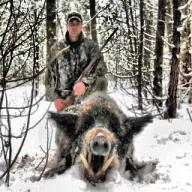boar: (43, 91, 157, 187)
